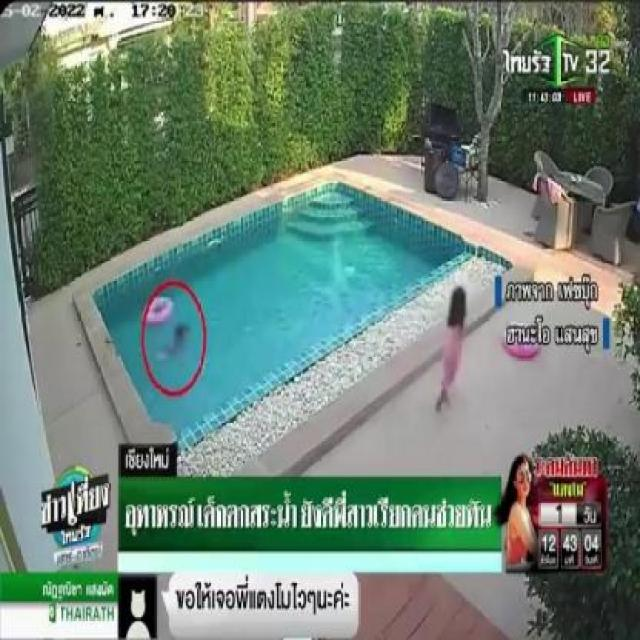drowning: (151, 325, 195, 367)
